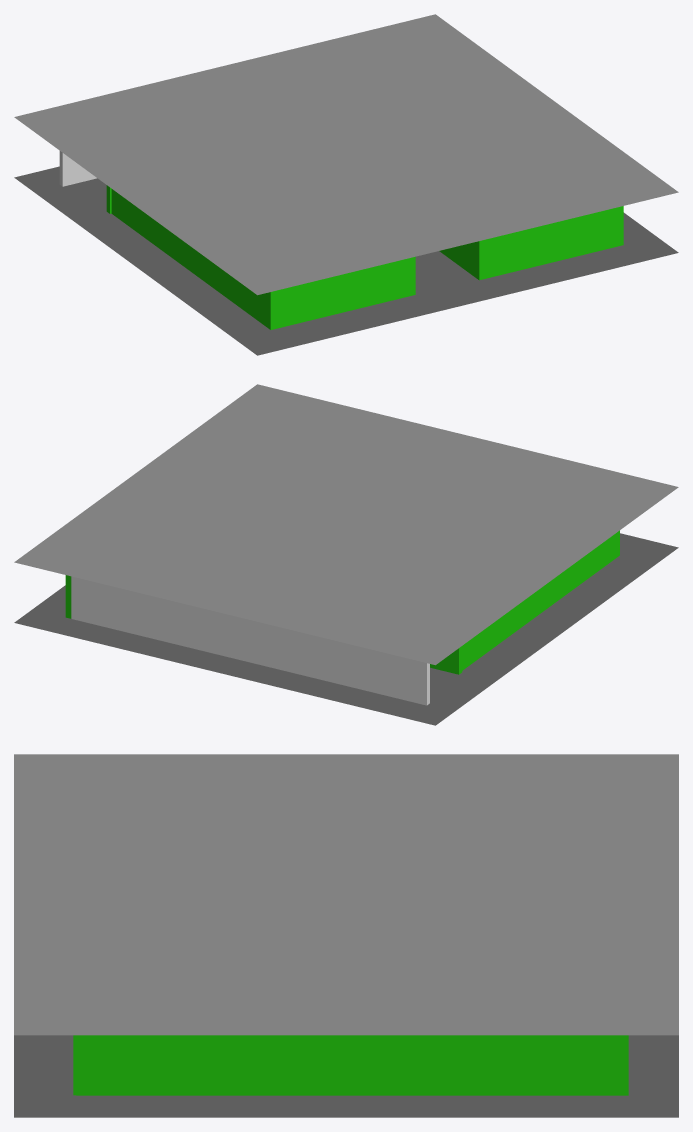
The model's file is labiritinho_placeholder.glb.
The picture shows the model from 3 angles, top to bottom: view 1: azimuth 30°, elevation 25°; view 2: azimuth 150°, elevation 25°; view 3: azimuth 270°, elevation 25°; orthographic projection. The views are drawn at different scales.
Visible parts, largest first — view 1: Plane.001, Plane, Cube.002; view 2: Plane.001, Cube.002, Plane; view 3: Plane.001, Cube.002, Plane.
Part boxes in pixels (box(x1,y1,x2,y2)): Plane.001: box(14, 14, 678, 295); Plane: box(14, 166, 678, 355); Cube.002: box(59, 151, 623, 329); Plane.001: box(14, 384, 678, 665); Cube.002: box(65, 530, 619, 705); Plane: box(14, 533, 678, 725); Plane.001: box(14, 754, 678, 1035); Cube.002: box(73, 1035, 628, 1095); Plane: box(14, 1035, 678, 1117).
Bounding box in the file's own units: 10.78 × 1.48 × 10.78.
